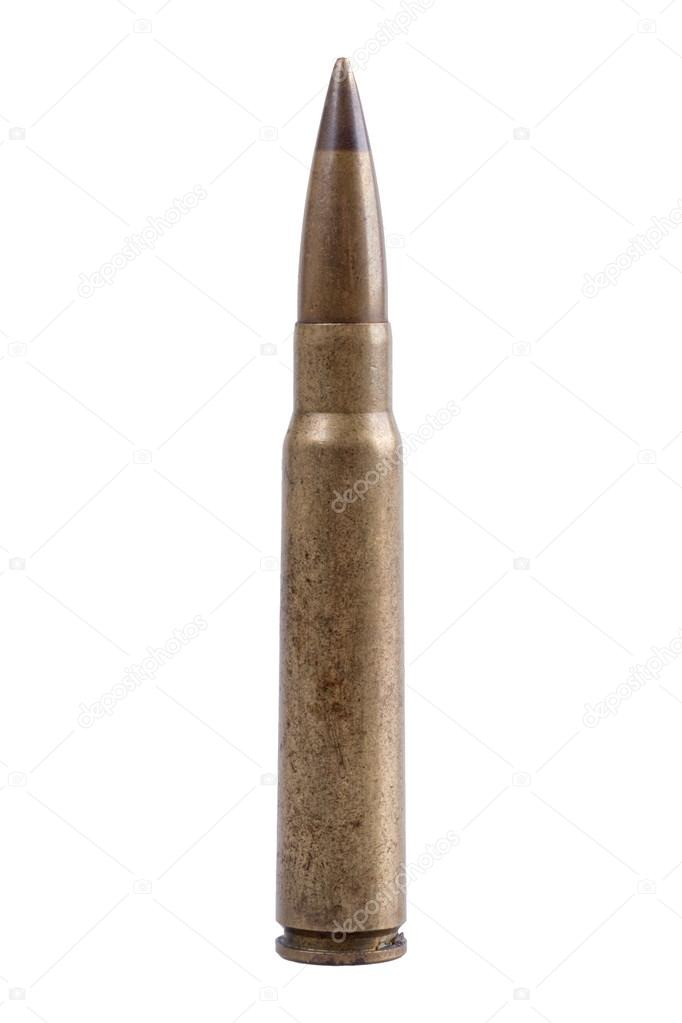bullet: (261, 54, 415, 967)
